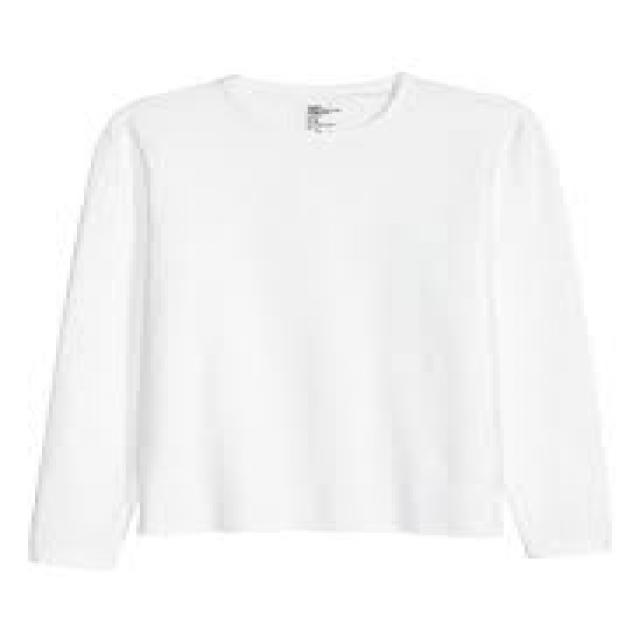plain: (39, 75, 611, 560)
